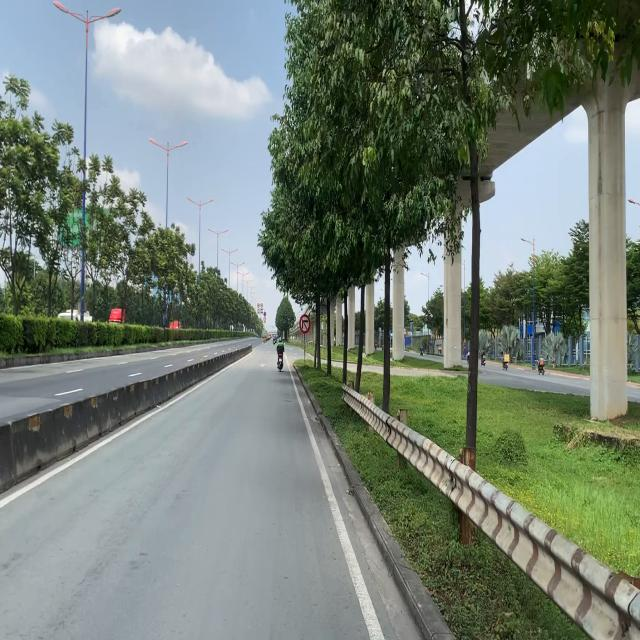Cam re phai: (299, 314, 311, 334)
